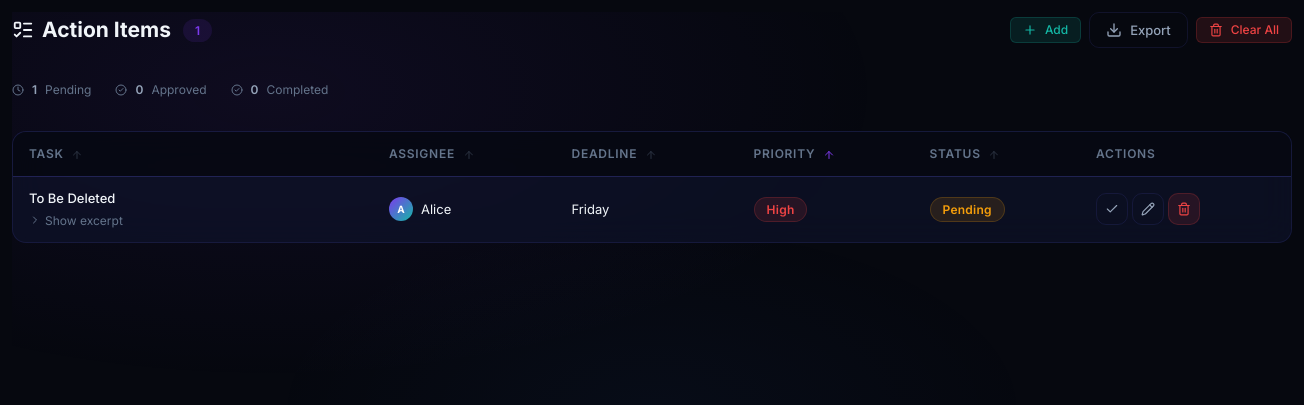
TaskTable › deletes a task when clicking delete button
The width and height of the screenshot is (1304, 405).
Check: the text "To Be Deleted" is shown, box [29,189,115,207]
Click the button titled "Delete task": [1184, 209] box [1168,193,1200,225]
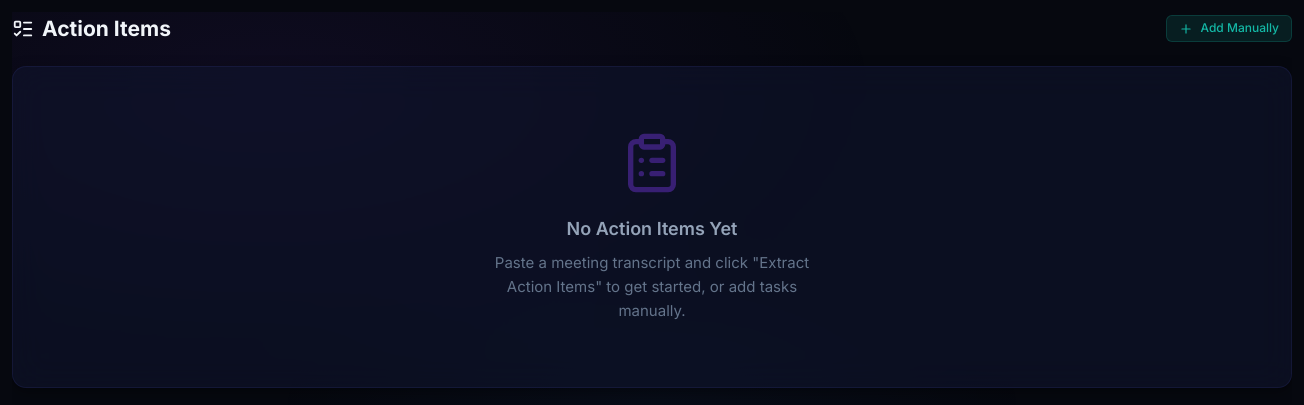
Check: the text "To Be Deleted" is gone
